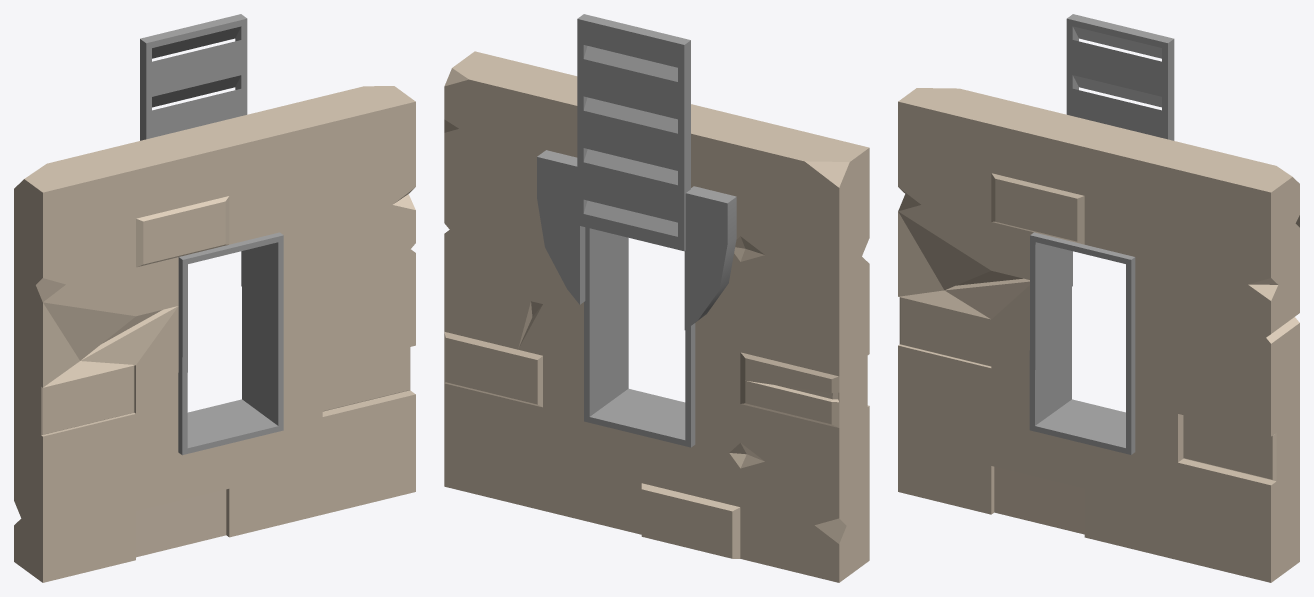
Rendered from Wall_Window_Open_002.fbx.
3 renders of one model, left to right at view 1: azimuth 30°, elevation 25°; view 2: azimuth 150°, elevation 25°; view 3: azimuth 330°, elevation 25°, orthographic. The views are drawn at different scales.
Visible parts, largest first — view 1: Wall_Window_Open_2; view 2: Wall_Window_Open_2; view 3: Wall_Window_Open_2.
Boxes of the visible parts, x1,y1,x2,y2 form: Wall_Window_Open_2: [14, 14, 415, 582]; Wall_Window_Open_2: [444, 14, 869, 582]; Wall_Window_Open_2: [898, 14, 1299, 582].
Bounding box in the file's own units: 3 × 3.71 × 0.5973.
